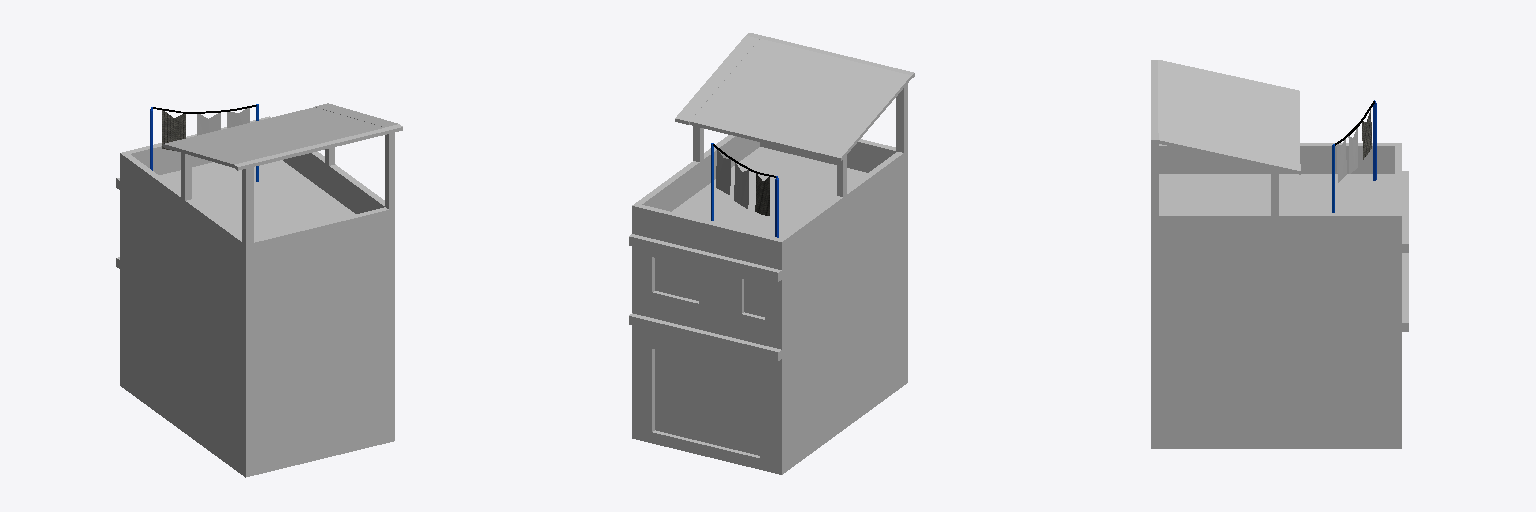
3 views of the same model, side by side, from view 1: azimuth 30°, elevation 25°; view 2: azimuth 150°, elevation 25°; view 3: azimuth 270°, elevation 25° (orthographic).
Parts seen in each view (by area): view 1: Cube, Cubo; view 2: Cube, Cubo; view 3: Cube, Cubo.
Part boxes in pixels (bbox=[...]): Cube: bbox=[116, 103, 402, 477]; Cubo: bbox=[150, 105, 256, 170]; Cube: bbox=[629, 33, 914, 474]; Cubo: bbox=[713, 144, 778, 237]; Cube: bbox=[1151, 60, 1408, 448]; Cubo: bbox=[1335, 100, 1376, 182].
Size of the model in its own units: 7.67 by 13.82 by 10.36.
Materials: 14 (1 with a texture image).